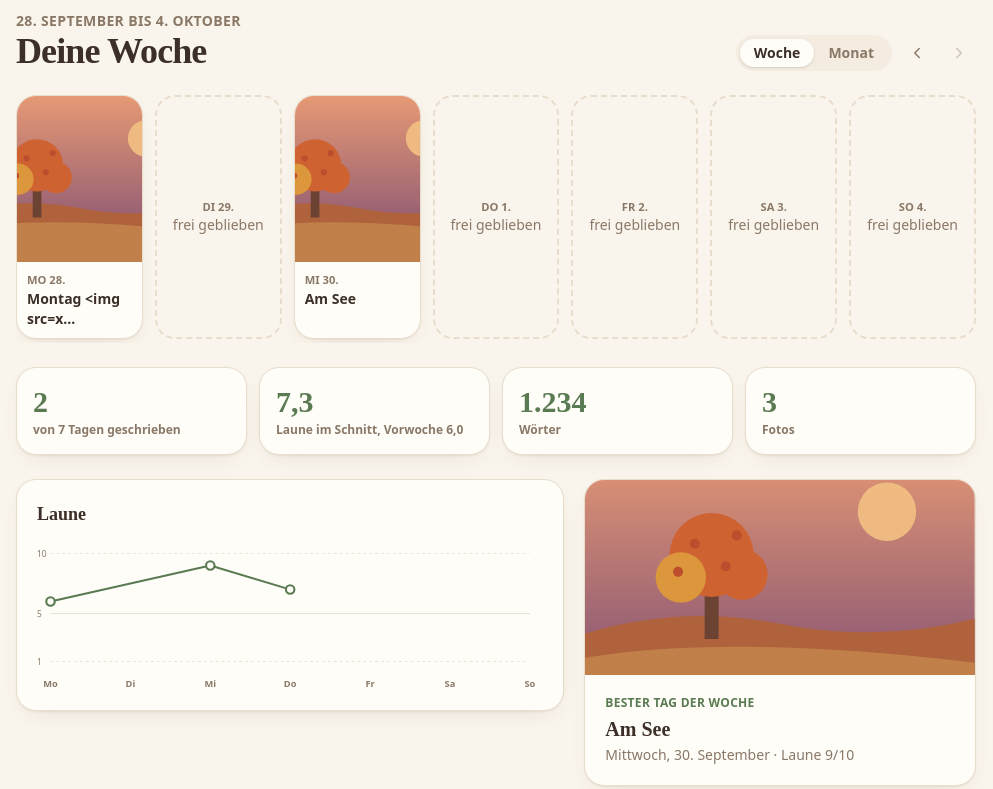
Test: a week › switches between week and month
Click the button "Monat": {"x": 851, "y": 53} [814,39,888,67]
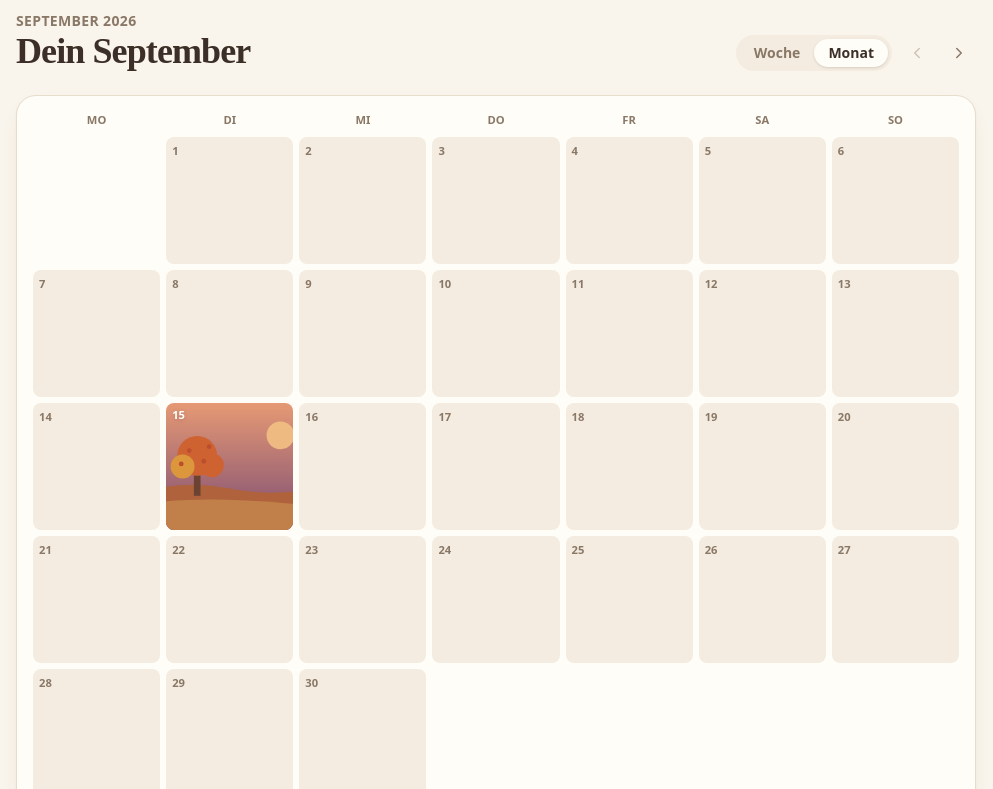
Now the heading "Dein September" is shown, box [16,31,250,71]
